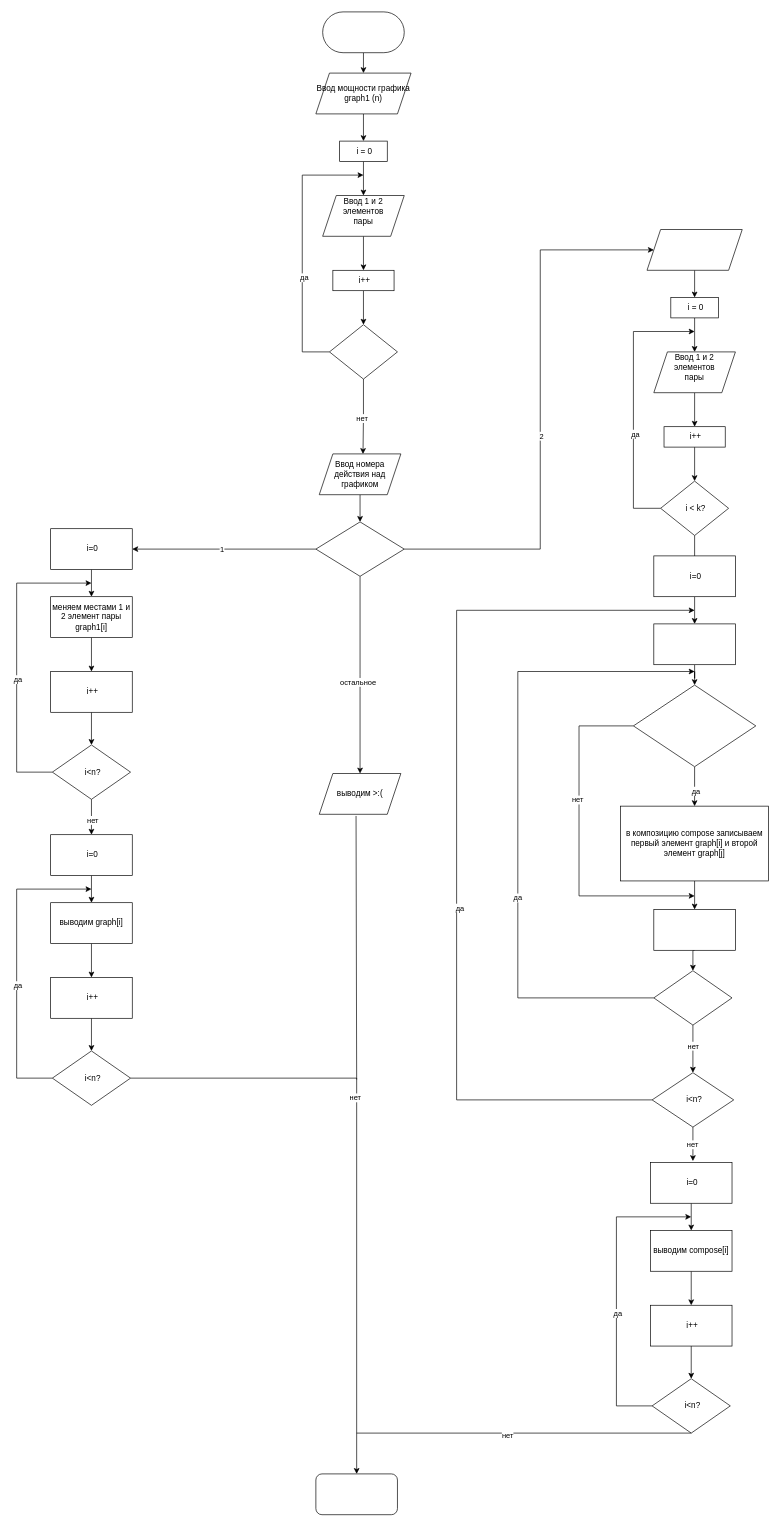
Some shapes in this 781 by 1527 pixel diagram are drawn without their labels. Here are the shapes that lost their labels. From the top down, the centre of each, then its label:
At point (363, 32): "Начало".
At point (694, 249): "Ввод мощности графика graph2 (k)".
At point (363, 351): "i < n".
At point (359, 548): "Какой номер?".
At point (694, 644): "j=o".
At point (694, 725): "второй элемент graph[i] = первому элементу graph[j]?".
At point (694, 929): "j++".
At point (692, 997): "j<k?".
At point (356, 1494): "конец".
